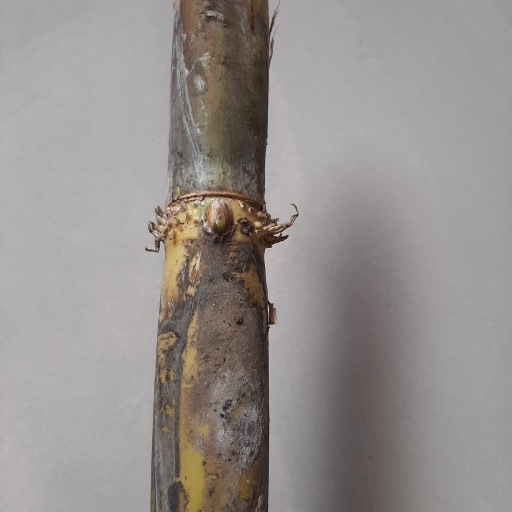Bud: (204, 195, 234, 239)
